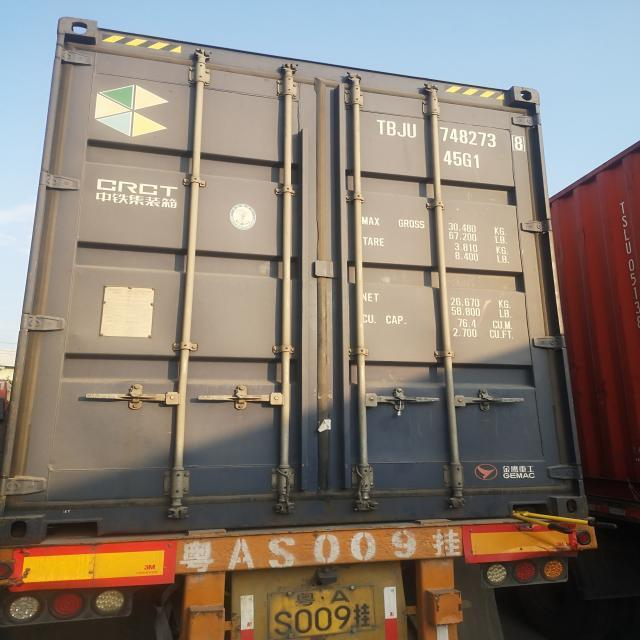ISO: (442, 150, 484, 170)
container_number: (378, 122, 519, 148)
